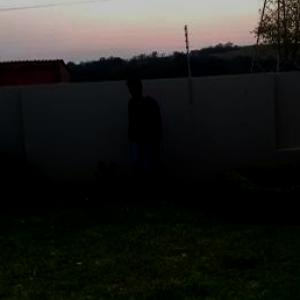follow: (128, 74, 166, 200)
